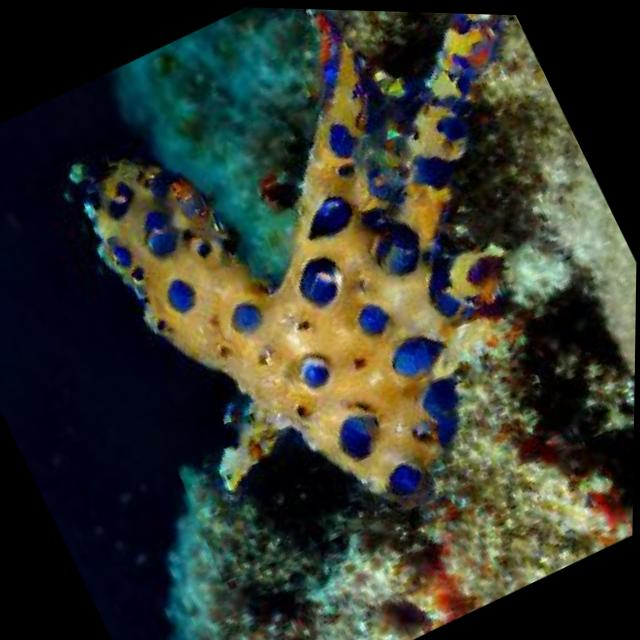blue_ringed_octopus: (2, 0, 640, 608)
